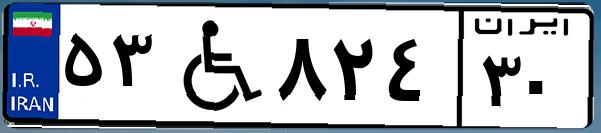0: (525, 38, 570, 115)
2: (330, 28, 385, 110)
3: (475, 38, 525, 113), (110, 28, 158, 98)
4: (385, 28, 445, 110)
5: (57, 26, 110, 100)
8: (270, 28, 330, 110)
ژ (معلولین و جانبازان): (158, 12, 270, 120)
